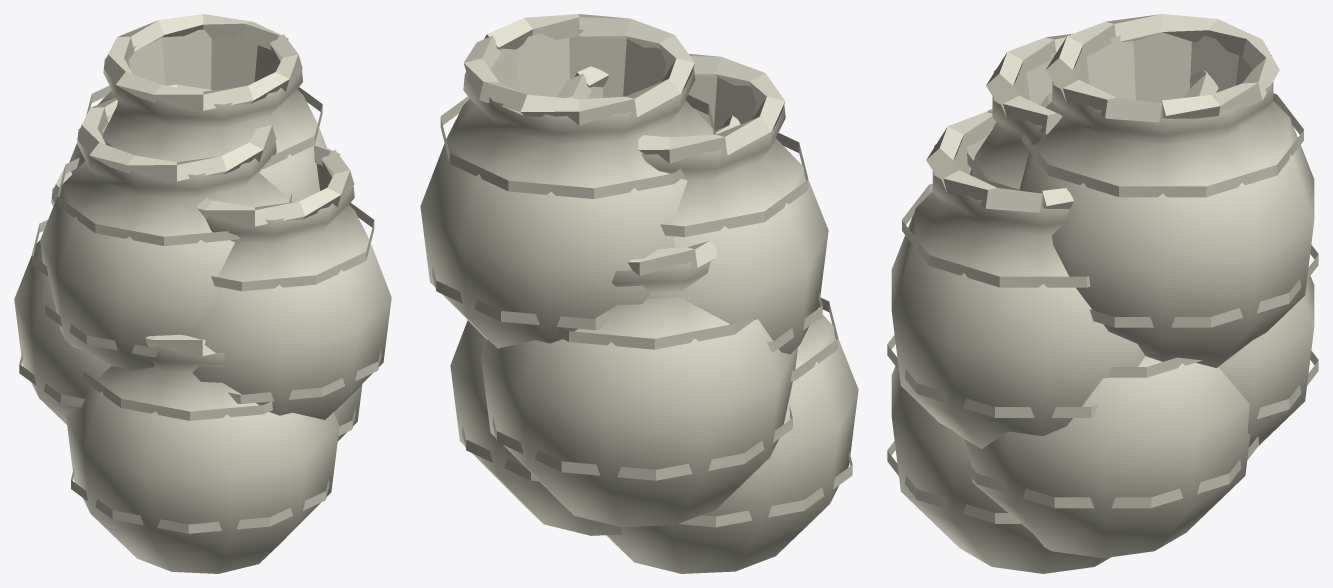
Rendered from item_046_milk_l.glb.
The picture shows the model from 3 angles, left to right: view 1: azimuth 30°, elevation 25°; view 2: azimuth 150°, elevation 25°; view 3: azimuth 270°, elevation 25°; orthographic projection. The views are drawn at different scales.
Parts seen in each view (by area): view 1: item_046_milk_l; view 2: item_046_milk_l; view 3: item_046_milk_l.
Boxes of the visible parts, left/top/right/bottom form: item_046_milk_l: left=14, top=14, right=391, bottom=573; item_046_milk_l: left=420, top=14, right=858, bottom=573; item_046_milk_l: left=887, top=14, right=1318, bottom=573.
Bounding box in the file's own units: 0.39 × 0.5636 × 0.4333.
